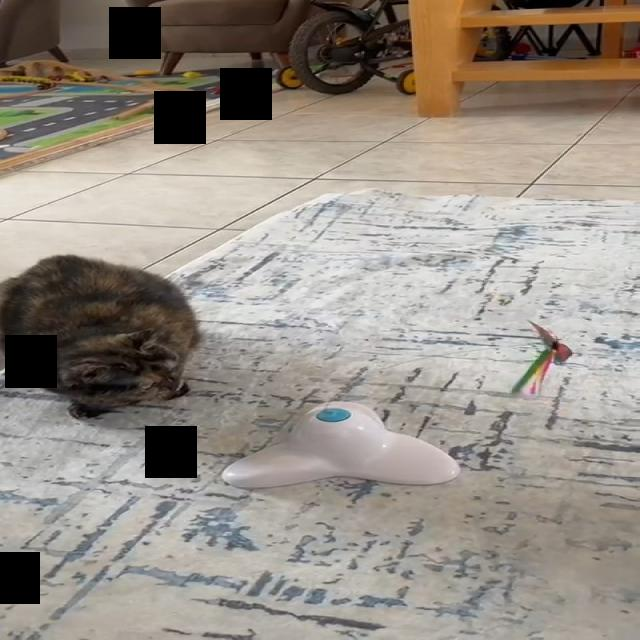authorized: (0, 252, 201, 419)
